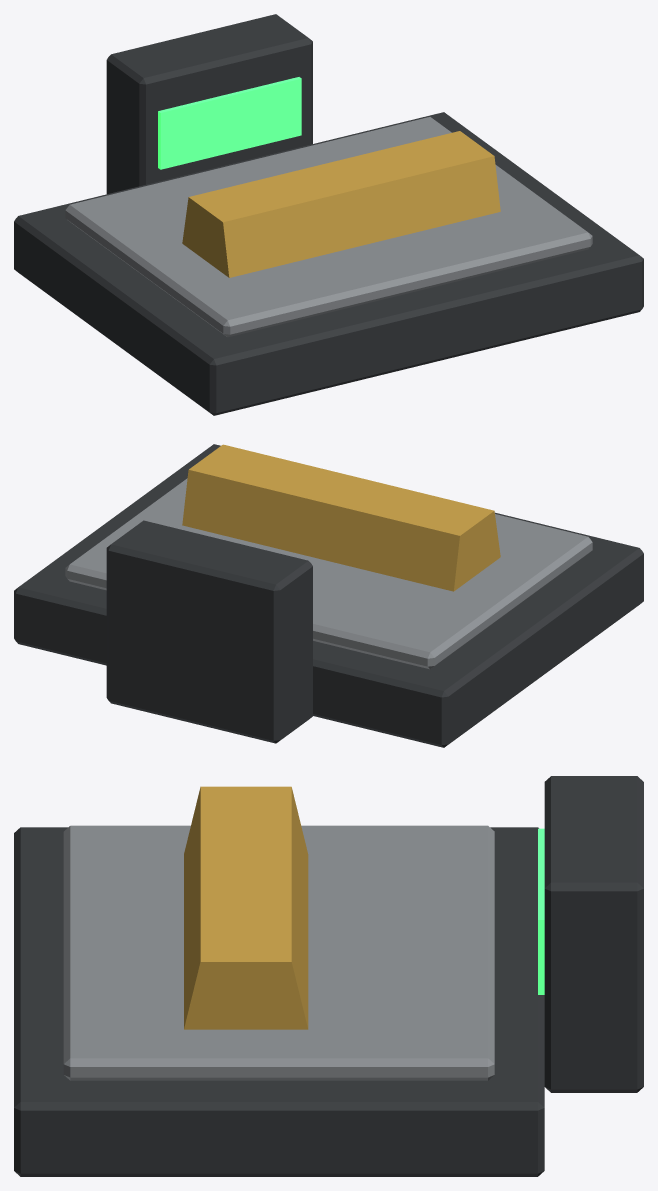
The model's file is prop_of_bullion_scale.glb.
3 views of the same model, one above another, from view 1: azimuth 30°, elevation 25°; view 2: azimuth 150°, elevation 25°; view 3: azimuth 270°, elevation 25° (orthographic). The views are drawn at different scales.
Parts seen in each view (by area): view 1: Scale; view 2: Scale; view 3: Scale.
Part boxes in pixels (x1=…): Scale: x1=14, y1=14, x2=643, y2=415; Scale: x1=14, y1=444, x2=643, y2=747; Scale: x1=14, y1=776, x2=643, y2=1176.
Bounding box in the file's own units: 0.4 × 0.14 × 0.38.
